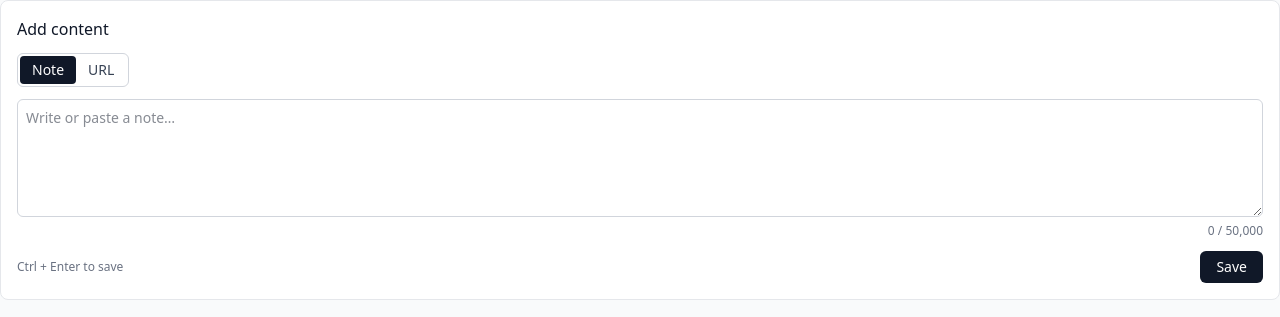
Test case: IngestForm › shows the backend error message
This screenshot has width=1280, height=317.
Click the button "URL" at (101,70), box [76, 56, 126, 84]
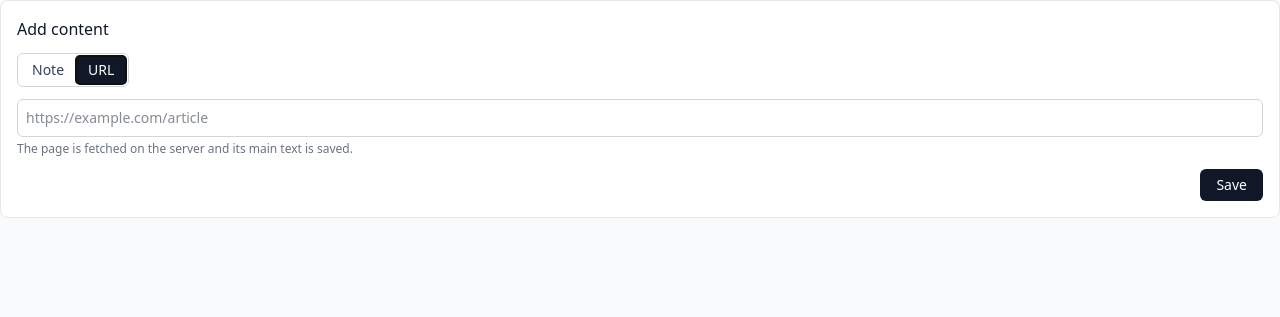
Type "https://example.com/private" into the field named "URL" at (640,118), box [17, 99, 1263, 137]
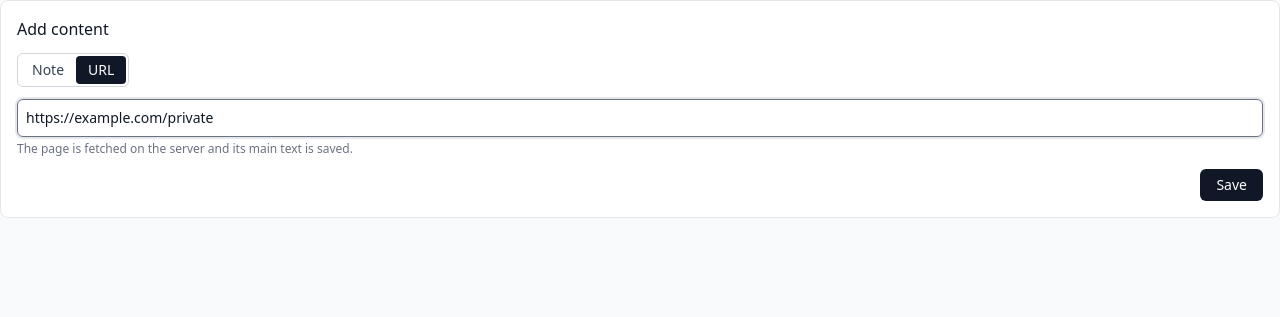
Click the button "Save" at (1232,185), box [1200, 169, 1263, 201]
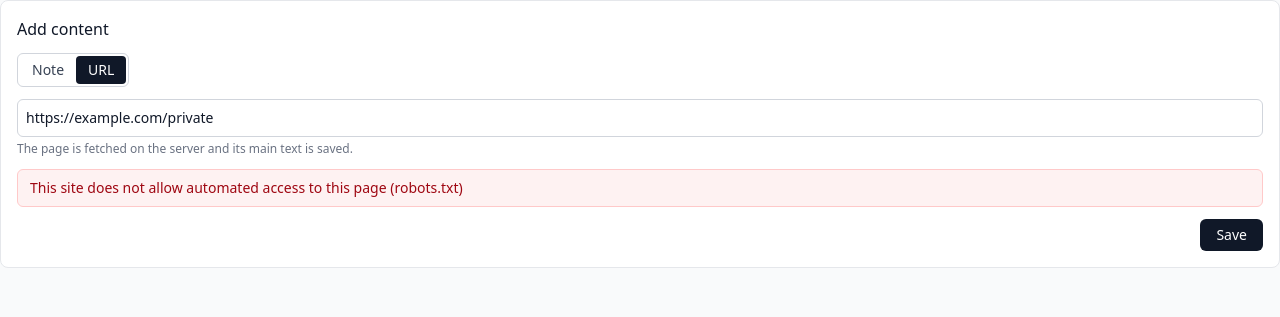
Now the message shows "does not allow automated access", box [30, 178, 463, 197]
